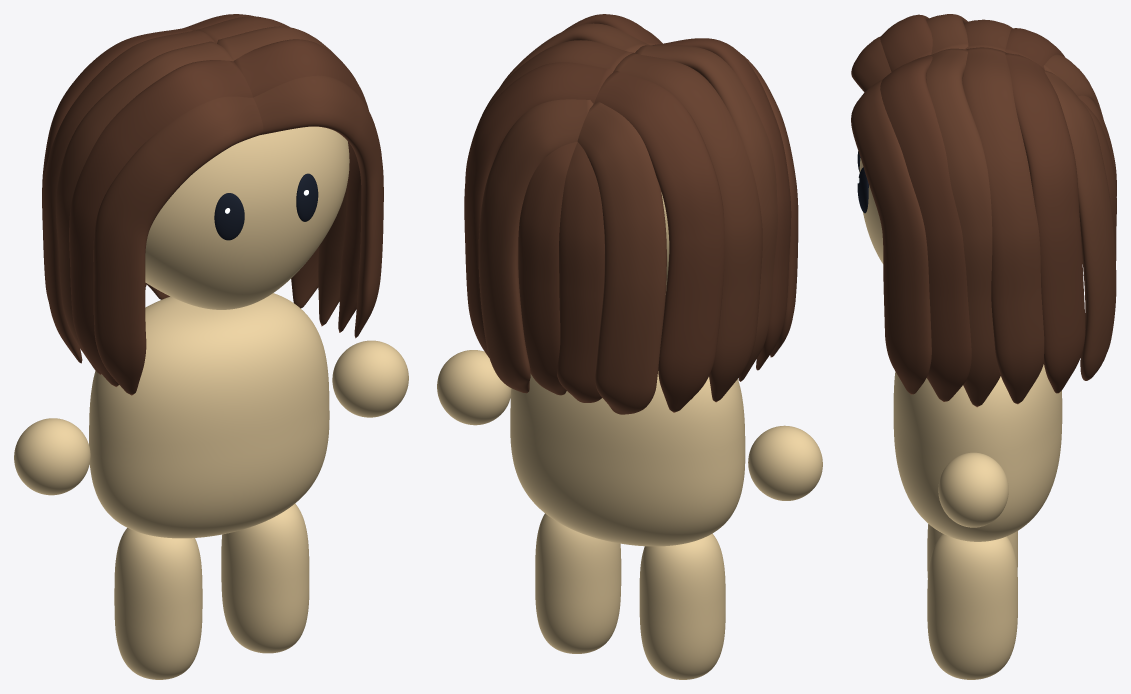
File: Feminine-skin1.glb
The picture shows the model from 3 angles, left to right: view 1: azimuth 30°, elevation 25°; view 2: azimuth 150°, elevation 25°; view 3: azimuth 270°, elevation 25°; orthographic projection. The views are drawn at different scales.
Parts seen in each view (by area): view 1: Skin / compact torso with skirt outline, Skin / soft oval head, Hair / Straight -1 0, Hair / Straight -1 1, Skin / leg -1, Skin / leg 1, Hair / Straight 1 0, Hair / Straight 1 1, Hair / Straight -1 2, Hair / Straight -1 3, Skin / hand 1, Skin / hand -1 (+5 smaller); view 2: Skin / compact torso with skirt outline, Hair / Straight -1 4, Hair / Straight -1 5, Hair / Straight -1 3, Hair / Straight 1 5, Skin / leg -1, Hair / Straight -1 6, Skin / leg 1, Hair / Straight 1 6, Hair / Straight 1 4, Hair / Straight -1 2, Hair / Straight -1 1 (+6 smaller); view 3: Skin / compact torso with skirt outline, Hair / Straight 1 3, Hair / Straight 1 4, Hair / Straight 1 1, Hair / Straight 1 0, Skin / leg 1, Hair / Straight 1 2, Hair / Straight 1 5, Skin / hand 1, Hair / Straight -1 1, Hair / Straight -1 0, Hair / Straight -1 4 (+7 smaller).
Part boxes in pixels (x1=…): Skin / compact torso with skirt outline: x1=89, y1=293, x2=329, y2=538; Skin / soft oval head: x1=145, y1=126, x2=349, y2=309; Hair / Straight -1 0: x1=93, y1=96, x2=263, y2=395; Hair / Straight -1 1: x1=69, y1=60, x2=252, y2=386; Skin / leg -1: x1=114, y1=528, x2=202, y2=679; Skin / leg 1: x1=221, y1=503, x2=309, y2=653; Hair / Straight 1 0: x1=253, y1=75, x2=383, y2=338; Hair / Straight 1 1: x1=233, y1=39, x2=368, y2=332; Hair / Straight -1 2: x1=56, y1=41, x2=233, y2=374; Hair / Straight -1 3: x1=42, y1=30, x2=214, y2=363; Skin / hand 1: x1=332, y1=340, x2=408, y2=417; Skin / hand -1: x1=14, y1=418, x2=90, y2=495; Skin / compact torso with skirt outline: x1=510, y1=371, x2=745, y2=546; Hair / Straight -1 4: x1=594, y1=71, x2=724, y2=412; Hair / Straight -1 5: x1=577, y1=101, x2=666, y2=414; Hair / Straight -1 3: x1=613, y1=53, x2=762, y2=402; Hair / Straight 1 5: x1=478, y1=99, x2=593, y2=393; Skin / leg -1: x1=639, y1=533, x2=725, y2=679; Hair / Straight -1 6: x1=557, y1=142, x2=604, y2=402; Skin / leg 1: x1=535, y1=513, x2=621, y2=653; Hair / Straight 1 6: x1=518, y1=141, x2=577, y2=395; Hair / Straight 1 4: x1=464, y1=62, x2=612, y2=357; Hair / Straight -1 2: x1=635, y1=45, x2=777, y2=381; Hair / Straight -1 1: x1=653, y1=38, x2=791, y2=370; Skin / compact torso with skirt outline: x1=893, y1=364, x2=1062, y2=541; Hair / Straight 1 3: x1=962, y1=47, x2=1044, y2=404; Hair / Straight 1 4: x1=1005, y1=53, x2=1085, y2=393; Hair / Straight 1 1: x1=880, y1=55, x2=971, y2=401; Hair / Straight 1 0: x1=851, y1=79, x2=931, y2=394; Skin / leg 1: x1=927, y1=534, x2=1017, y2=679; Hair / Straight 1 2: x1=926, y1=48, x2=1000, y2=407; Hair / Straight 1 5: x1=1044, y1=70, x2=1116, y2=380; Skin / hand 1: x1=938, y1=452, x2=1008, y2=527; Hair / Straight -1 1: x1=880, y1=14, x2=932, y2=71; Hair / Straight -1 0: x1=851, y1=36, x2=891, y2=92; Hair / Straight -1 4: x1=1005, y1=28, x2=1082, y2=263.
Size of the model in its own units: 1.49 by 2.31 by 0.9206.
